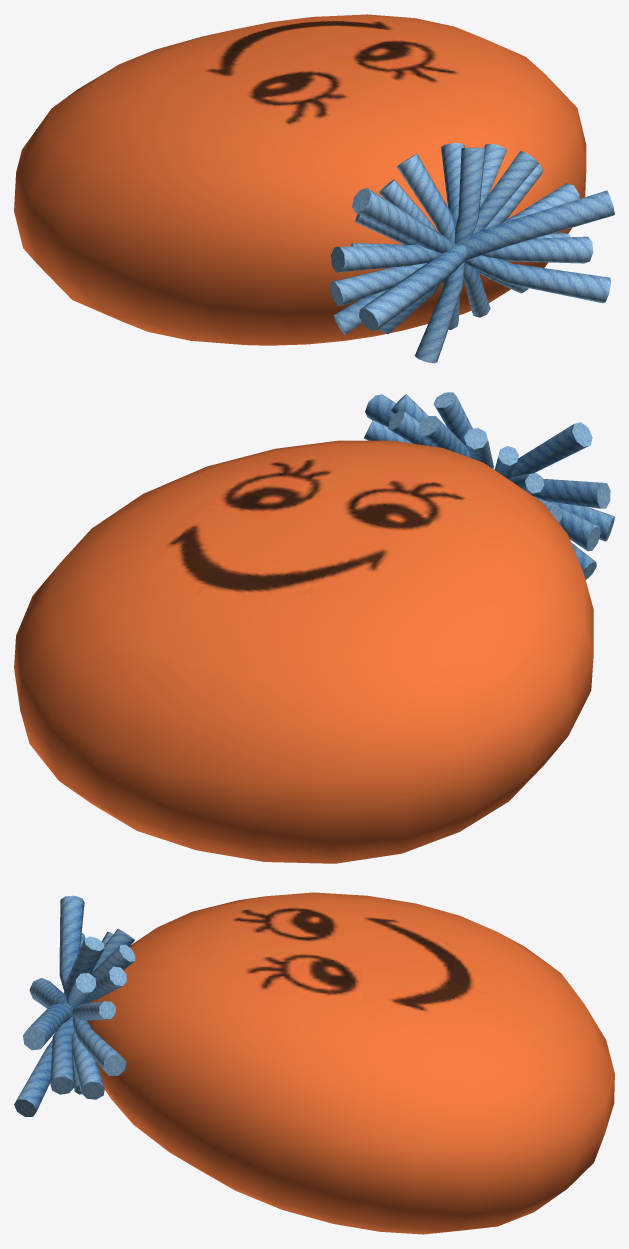
Rendered from GTSmileDoll.obj.
3 renders of one model, top to bottom at view 1: azimuth 30°, elevation 25°; view 2: azimuth 150°, elevation 25°; view 3: azimuth 270°, elevation 25°, orthographic. The views are drawn at different scales.
Parts seen in each view (by area): view 1: xiaoLianMianRen; view 2: xiaoLianMianRen; view 3: xiaoLianMianRen.
Boxes of the visible parts, bbox=[...] form: xiaoLianMianRen: bbox=[14, 14, 614, 363]; xiaoLianMianRen: bbox=[14, 392, 614, 863]; xiaoLianMianRen: bbox=[14, 892, 614, 1234].
Size of the model in its own units: 1.09 by 0.5909 by 1.27.
